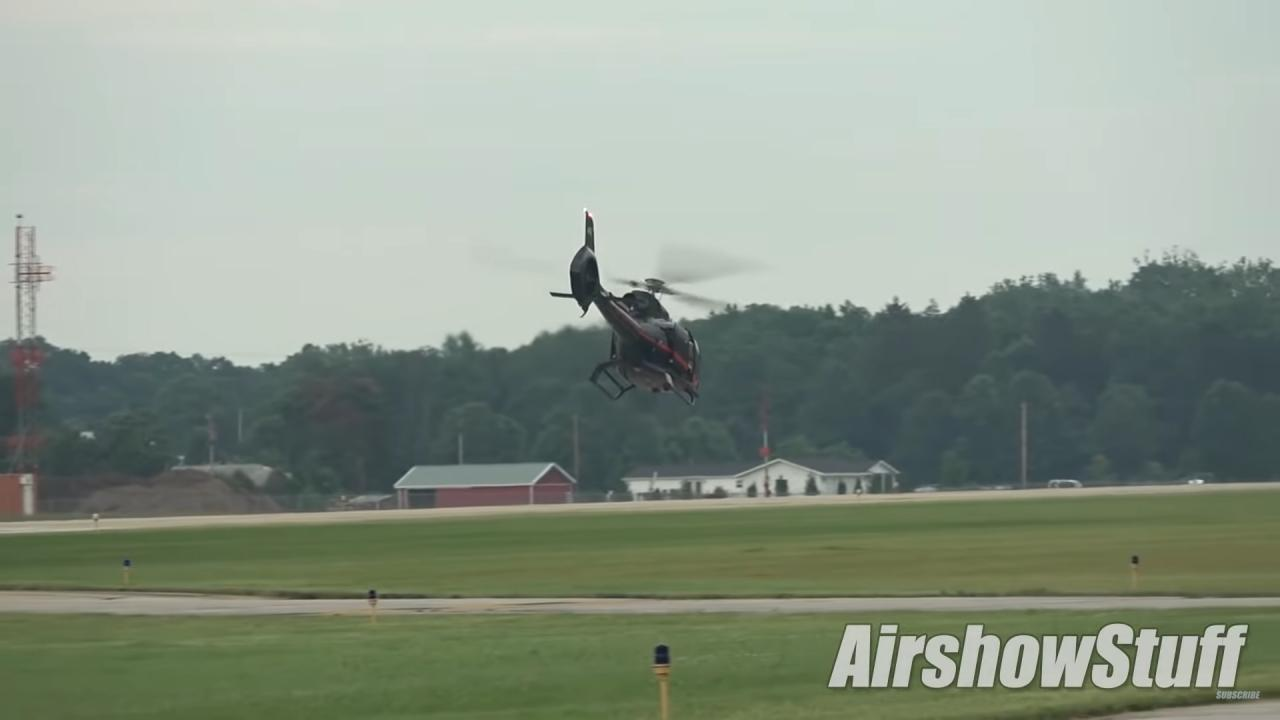Helicopter: (538, 194, 759, 415)
